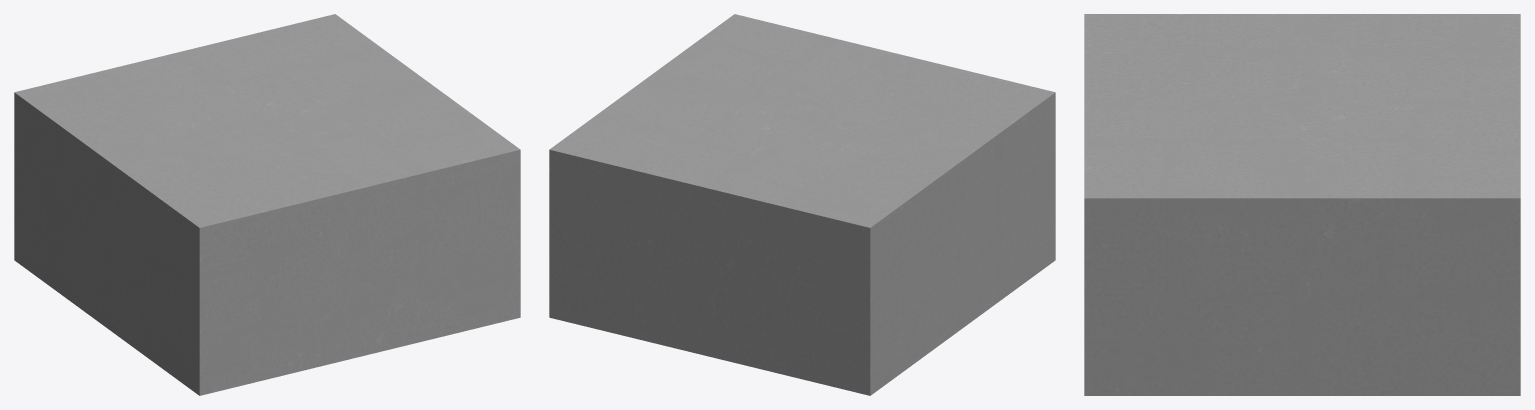
File: WarehouseOfFruit_by_Poikilos.obj
3 renders of one model, left to right at view 1: azimuth 30°, elevation 25°; view 2: azimuth 150°, elevation 25°; view 3: azimuth 270°, elevation 25°, orthographic. The views are drawn at different scales.
Visible parts, largest first — view 1: warehouseoffruitceiling_Plane.006, warehouseoffruitwallsouth_Plane.004, warehouseoffruitwallwest_Plane.003; view 2: warehouseoffruitceiling_Plane.006, warehouseoffruitwallnorth_Plane.001, warehouseoffruitwallwest_Plane.003; view 3: warehouseoffruitwalleast_Plane.005, warehouseoffruitceiling_Plane.006.
Boxes of the visible parts, x1=… form: warehouseoffruitceiling_Plane.006: x1=15, y1=14, x2=519, y2=227; warehouseoffruitwallsouth_Plane.004: x1=199, y1=149, x2=520, y2=395; warehouseoffruitwallwest_Plane.003: x1=14, y1=92, x2=199, y2=395; warehouseoffruitceiling_Plane.006: x1=550, y1=14, x2=1054, y2=227; warehouseoffruitwallnorth_Plane.001: x1=549, y1=149, x2=870, y2=395; warehouseoffruitwallwest_Plane.003: x1=870, y1=92, x2=1055, y2=395; warehouseoffruitwalleast_Plane.005: x1=1084, y1=198, x2=1520, y2=395; warehouseoffruitceiling_Plane.006: x1=1084, y1=14, x2=1520, y2=198.
Bounding box in the file's own units: 16 × 8 × 16.
Materials: 2 (2 with a texture image).
